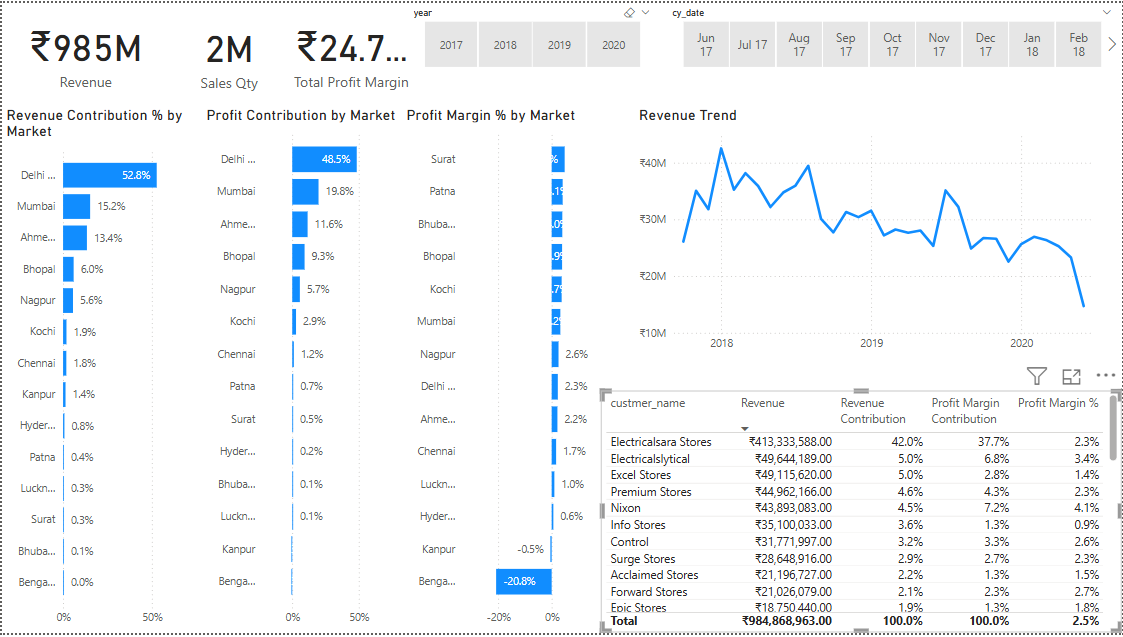

What the dashboard file says about the page in this screenshot:
{"tool":"powerbi","page":{"name":"Profit Analysis","canvas":[1280,720],"ordinal":1},"visuals":[{"type":"card","fields":{"Values":["BaseMeasures.Revenue"]},"box":[0,0,191.7,116.7],"z":0},{"type":"card","fields":{"Values":["BaseMeasures.Sales Qty"]},"box":[191.7,1.7,136.7,115],"z":1000},{"type":"clusteredBarChart","title":"Profit Margin % by Market","fields":{"Category":["sales markets.markets_name"],"Y":["BaseMeasures.Profit Margin %"]},"box":[456.7,116.7,228.3,603.3],"z":2000},{"type":"slicer","fields":{"Values":["sales date.year"]},"box":[457.1,0,295.7,80],"z":3000},{"type":"slicer","fields":{"Values":["sales date.cy_date"]},"box":[752.9,0,527.1,80],"z":4000},{"type":"clusteredBarChart","title":"Revenue Contribution % by Market","fields":{"Y":["BaseMeasures.Revenue Contribution %"],"Category":["sales markets.markets_name"]},"box":[0,116.7,228.3,603.3],"z":5000},{"type":"tableEx","title":"Top 5 Customers By Revenue","fields":{"Values":["sales customers.custmer_name","BaseMeasures.Revenue","BaseMeasures.Revenue Contribution %","BaseMeasures.Profit Margin Contribution","BaseMeasures.Profit Margin %"]},"box":[685,443.3,595,276.7],"z":6000},{"type":"lineChart","title":"Revenue Trend","fields":{"Y":["BaseMeasures.Revenue"],"Category":["sales date.cy_date"]},"box":[723.3,116.7,531.7,290],"z":8000},{"type":"card","fields":{"Values":["BaseMeasures.Total Profit Margin"]},"box":[328.3,0,141.7,116.7],"z":9000},{"type":"clusteredBarChart","title":"Profit Contribution by Market","fields":{"Y":["BaseMeasures.Profit Margin Contribution"],"Category":["sales markets.markets_name"]},"box":[228.3,116.7,228.3,603.3],"z":10000}]}

Visuals, with their boxes in screenshot pixels (x1, y1, x2, y2), scaled from the page's 1280x720 canvas onto the 1123x637 screenshot:
card - BaseMeasures.Revenue: 0/0/168/103
card - BaseMeasures.Sales Qty: 168/2/288/103
"Profit Margin % by Market" clusteredBarChart: 401/103/601/636
slicer - sales date.year: 401/0/660/71
slicer - sales date.cy_date: 661/0/1122/71
"Revenue Contribution % by Market" clusteredBarChart: 0/103/200/636
"Top 5 Customers By Revenue" tableEx: 601/392/1122/636
"Revenue Trend" lineChart: 635/103/1101/360
card - BaseMeasures.Total Profit Margin: 288/0/412/103
"Profit Contribution by Market" clusteredBarChart: 200/103/401/636
